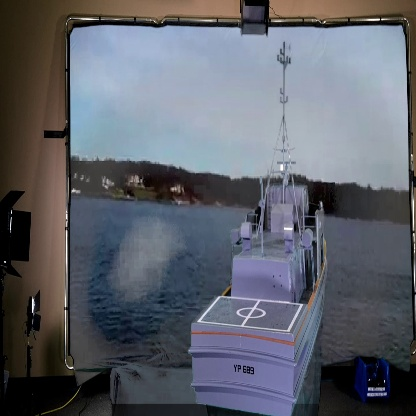YP689: (187, 46, 330, 416)
